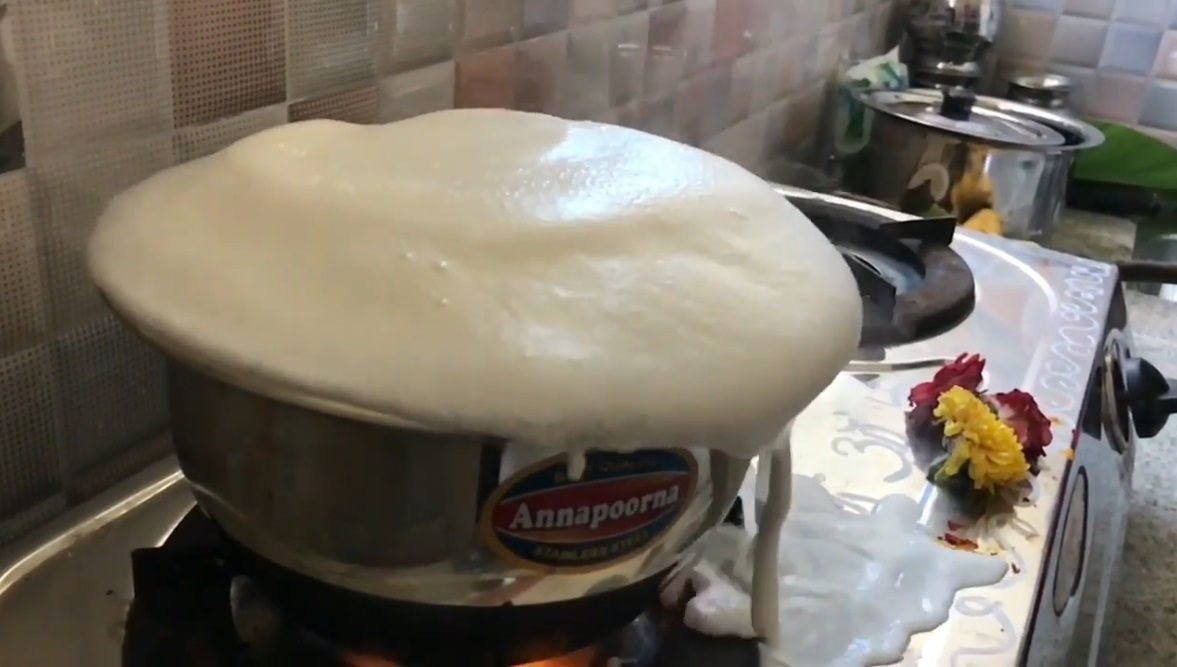Boiled: (82, 106, 869, 641)
